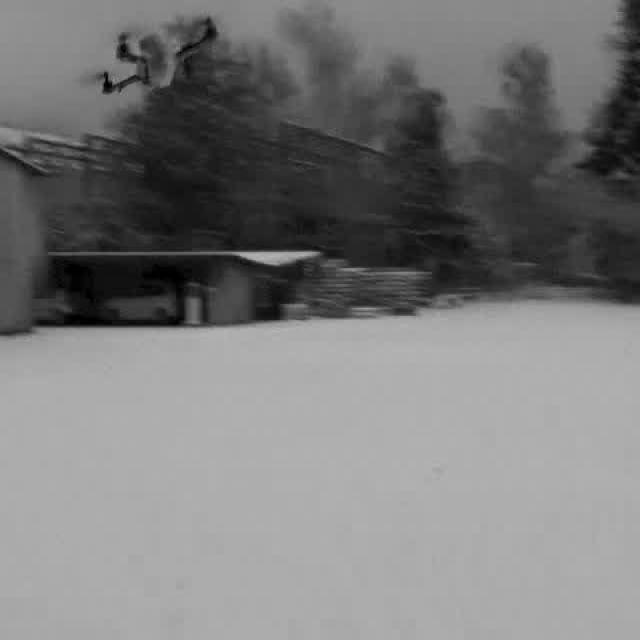drone: (72, 10, 233, 102)
